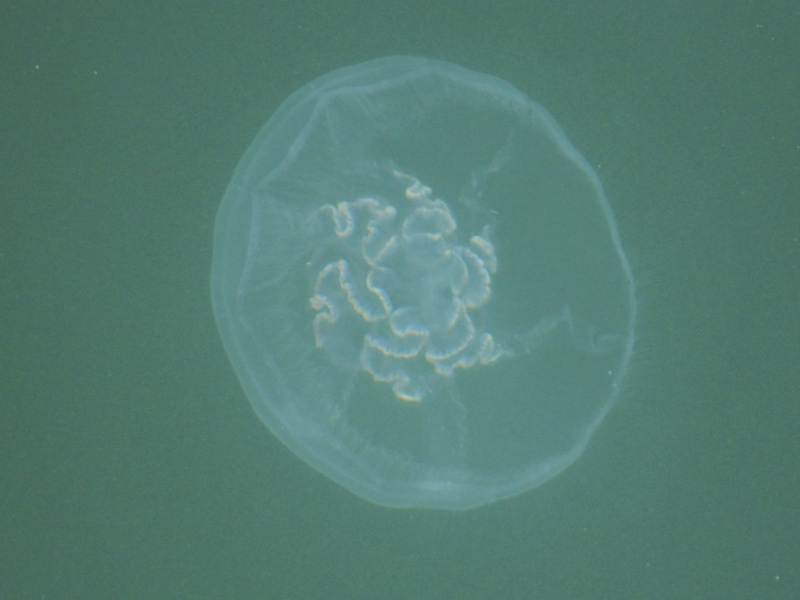Jellyfish: (209, 48, 642, 513)
